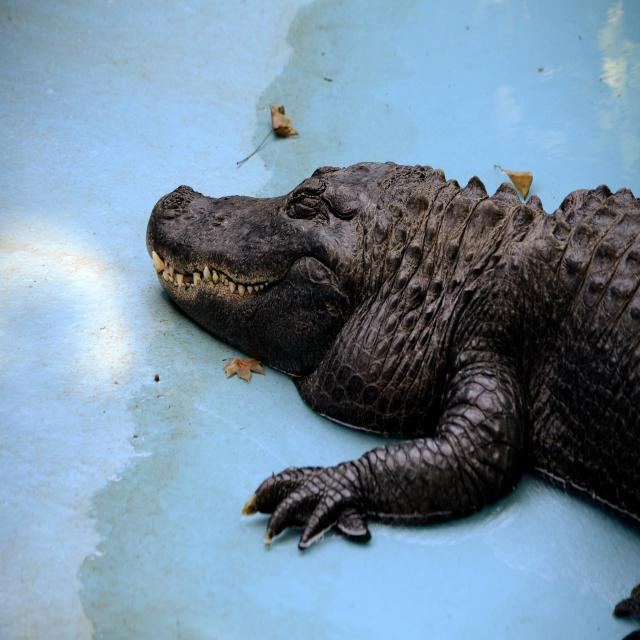crocodile: (146, 169, 640, 543)
